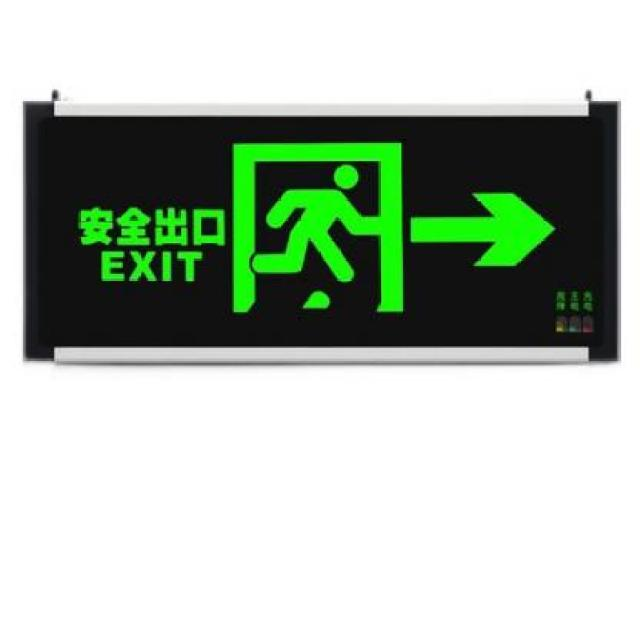exit_sign: (30, 82, 618, 364)
